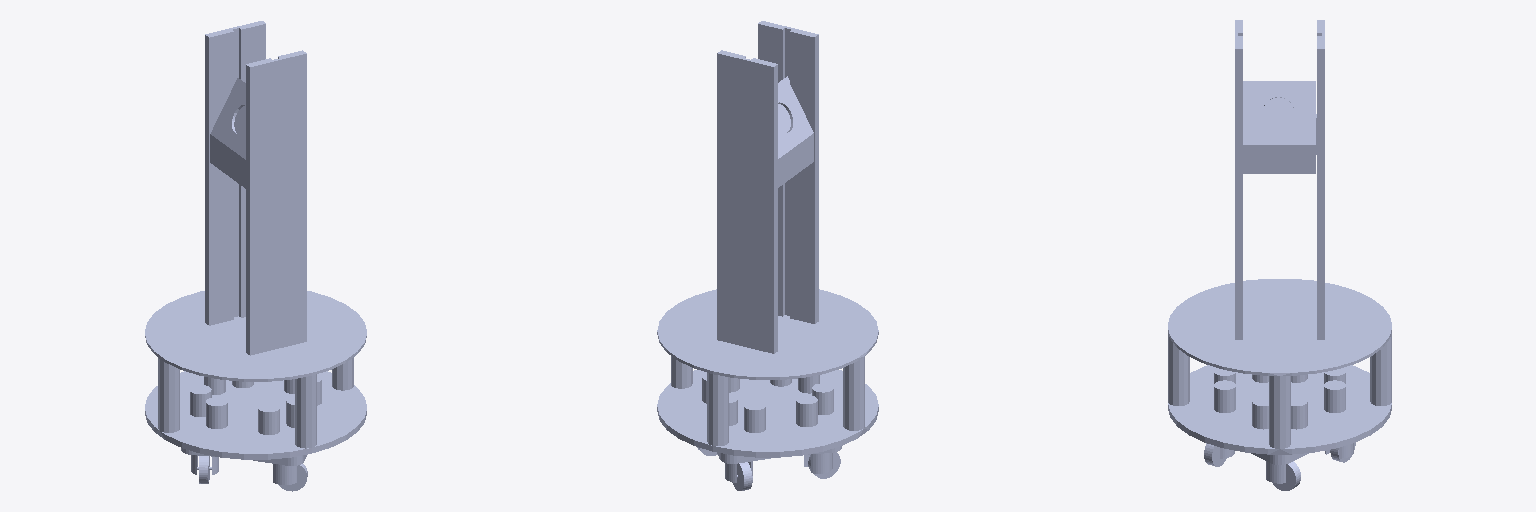
robot.urdf — mobilebase:
<robot
  name="mobilebase">
  <link
    name="base_link">
    <inertial>
      <origin
        xyz="0.20597603154176 -0.154936709294081 0.905372074798901"
        rpy="0 0 0" />
      <mass
        value="36.127263320367" />
      <inertia
        ixx="1.37369237520366"
        ixy="-1.42483768662531E-15"
        ixz="-7.93464889604043E-16"
        iyy="0.331326784558858"
        iyz="7.20907269469427E-16"
        izz="1.37369237520365" />
    </inertial>
    <visual>
      <origin
        xyz="0 0 0"
        rpy="0 0 0" />
      <geometry>
        <mesh
          filename="package://mobilebase/meshes/base_link.STL" />
      </geometry>
      <material
        name="">
        <color
          rgba="0.792156862745098 0.819607843137255 0.933333333333333 1" />
      </material>
    </visual>
    <collision>
      <origin
        xyz="0 0 0"
        rpy="0 0 0" />
      <geometry>
        <mesh
          filename="package://mobilebase/meshes/base_link.STL" />
      </geometry>
    </collision>
  </link>
  <link
    name="torso">
    <inertial>
      <origin
        xyz="-2.77555756156289E-17 0.0983564804260974 0.115"
        rpy="0 0 0" />
      <mass
        value="8.50250811972898" />
      <inertia
        ixx="0"
        ixy="0"
        ixz="0"
        iyy="0"
        iyz="0"
        izz="0" />
    </inertial>
    <visual>
      <origin
        xyz="0 0 0"
        rpy="0 0 0" />
      <geometry>
        <mesh
          filename="package://mobilebase/meshes/torso.STL" />
      </geometry>
      <material
        name="">
        <color
          rgba="0.792156862745098 0.819607843137255 0.933333333333333 1" />
      </material>
    </visual>
    <collision>
      <origin
        xyz="0 0 0"
        rpy="0 0 0" />
      <geometry>
        <mesh
          filename="package://mobilebase/meshes/torso.STL" />
      </geometry>
    </collision>
  </link>
  <joint
    name="prismatic"
    type="prismatic">
    <origin
      xyz="0.20408 -0.7946 0.4254"
      rpy="1.5708 0 0" />
    <parent
      link="base_link" />
    <child
      link="torso" />
    <axis
      xyz="0 1 0" />
    <limit
      effort="0"
      velocity="0" />
  </joint>
</robot>

--- What the picture shows (computed from the rendered views, not written in the file) ---
Views: 3 orthographic renders of the robot side by side, from view 1: azimuth 30°, elevation 25°; view 2: azimuth 150°, elevation 25°; view 3: azimuth 270°, elevation 25°.
Robot: mobilebase — 2 links, 1 joints (1 prismatic); root link base_link; default pose: every joint at zero.
Links seen in each view (by area): view 1: base_link, torso; view 2: base_link, torso; view 3: base_link, torso.
Link boxes in pixels (box(x1,y1,x2,y2)): base_link: box(145, 21, 366, 491); torso: box(210, 78, 245, 188); base_link: box(657, 21, 878, 490); torso: box(778, 76, 813, 187); base_link: box(1168, 20, 1391, 490); torso: box(1243, 81, 1316, 173).
Bounding box of the posed robot: 0.7 × 0.7 × 1.47 m (x, y, z).
Meshes: 2 distinct files referenced, 2 mesh visuals loaded (2 binary STL).